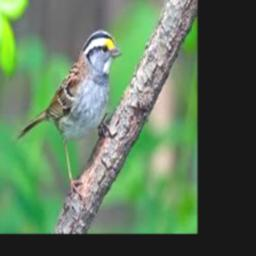Sparrow: (16, 30, 121, 200)
